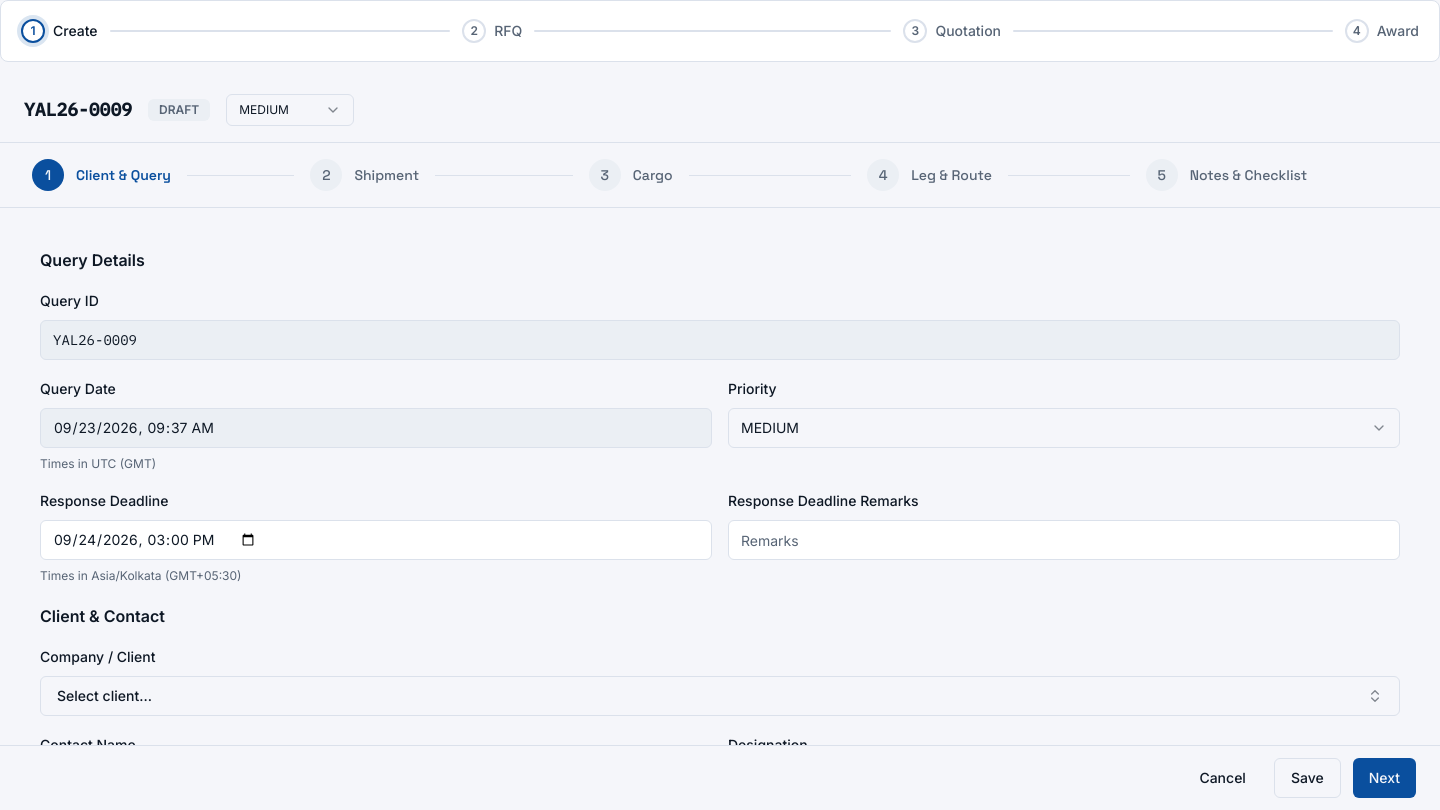
QueryWizardPage › Save shows a success message at the top (U3)
expect the text "YAL26-0009" is shown: met, box [24, 98, 132, 121]
Click the button "Save" at point(1307, 778), box [1274, 758, 1341, 798]
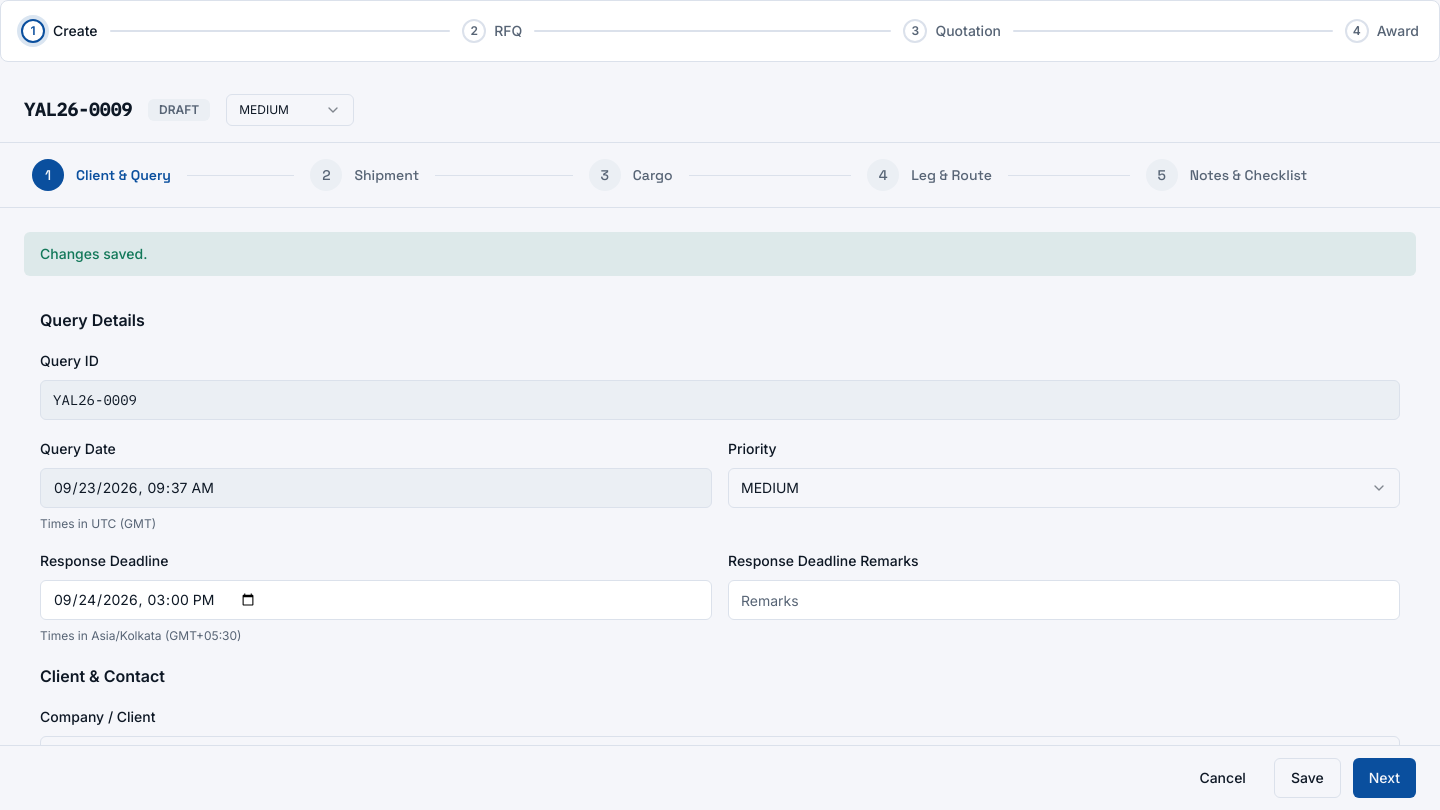
expect the text "Changes saved." is shown: met, box [24, 232, 1416, 276]
